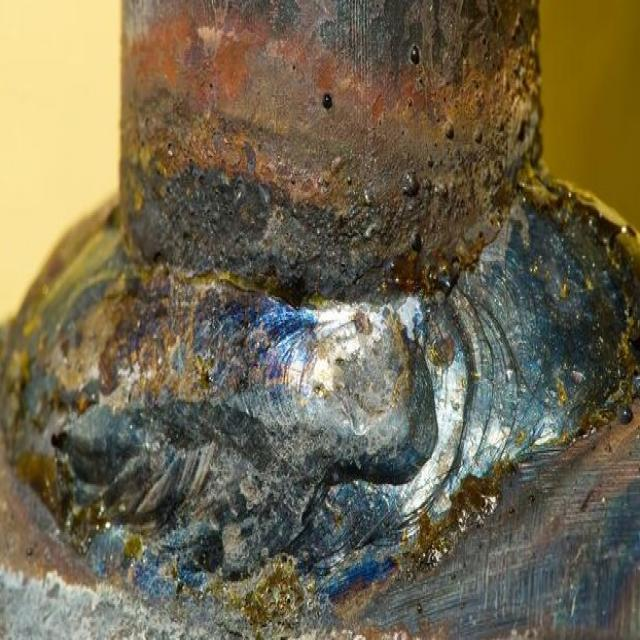Bad Weld: (4, 162, 639, 618)
